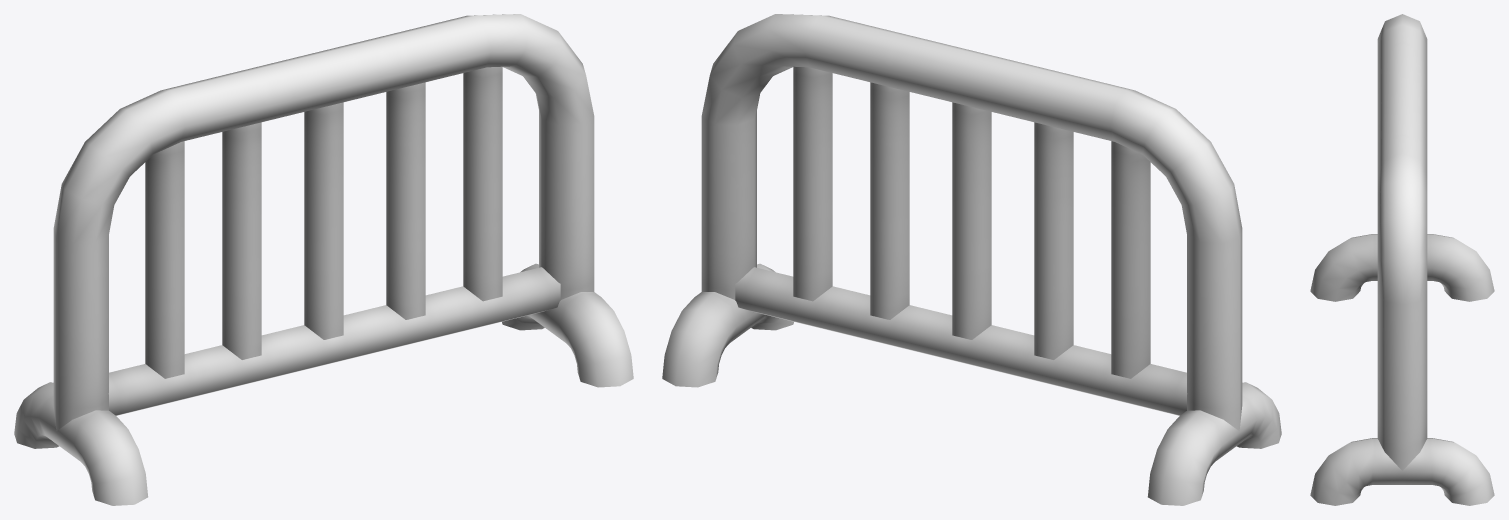
Rendered from Pfb_Fence__2.fbx.
The picture shows the model from 3 angles, left to right: view 1: azimuth 30°, elevation 25°; view 2: azimuth 150°, elevation 25°; view 3: azimuth 270°, elevation 25°; orthographic projection. The views are drawn at different scales.
Parts seen in each view (by area): view 1: MAT_Fence02 _M; view 2: MAT_Fence02 _M; view 3: MAT_Fence02 _M.
Boxes of the visible parts, x1,y1,x2,y2 form: MAT_Fence02 _M: (14,14,633,505); MAT_Fence02 _M: (662,14,1281,505); MAT_Fence02 _M: (1310,14,1494,505).
Bounding box in the file's own units: 1.19 × 0.7492 × 0.4111.
1 material, 1 textured.
